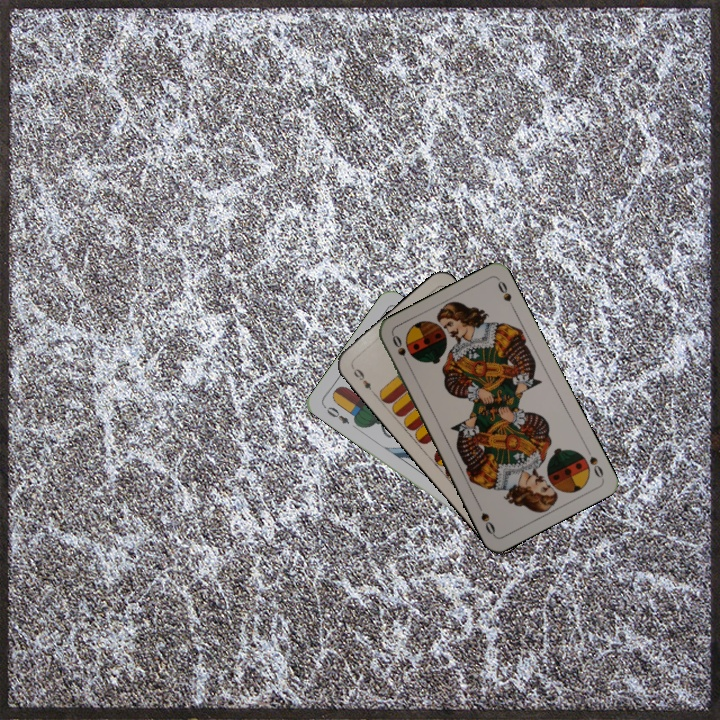E9: (348, 363, 378, 397)
EO: (320, 402, 352, 427)
SO: (388, 331, 413, 369), (582, 443, 606, 481)
